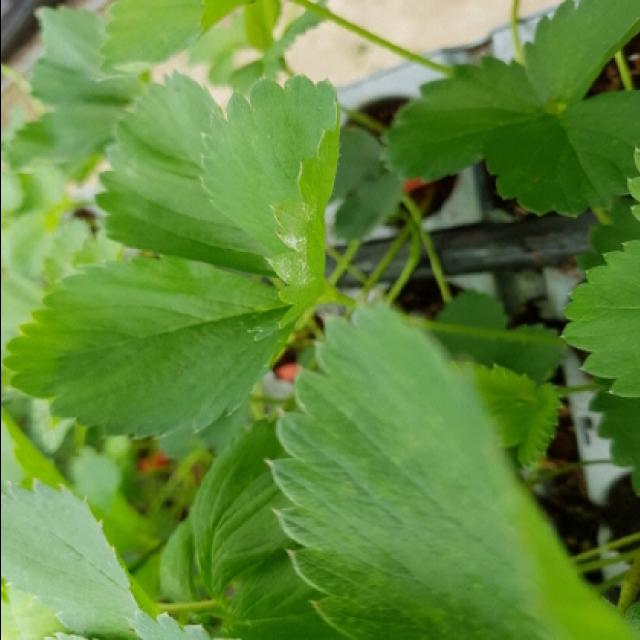Powdery Mildew Leaf: (196, 72, 341, 332)
